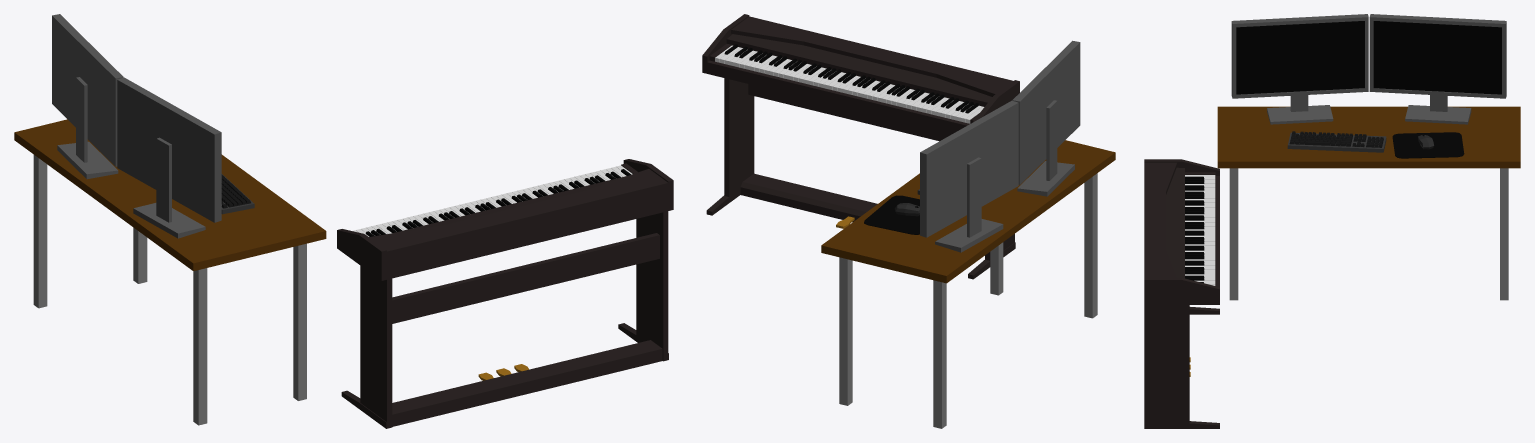
Rendered from desk-scene.glb.
The picture shows the model from 3 angles, left to right: view 1: azimuth 30°, elevation 25°; view 2: azimuth 150°, elevation 25°; view 3: azimuth 270°, elevation 25°; orthographic projection. The views are drawn at different scales.
Parts seen in each view (by area): view 1: Piano, Tabletop, MonitorScreen, TableLegs, MonitorScreen.001, MonitorStand, MonitorBase.001, MonitorBase, MonitorStand.001; view 2: Piano, Tabletop, MonitorScreen.001, TableLegs, MonitorScreen, Mousepad, MonitorStand.001, MonitorBase, MonitorBase.001, MonitorStand; view 3: Piano, Tabletop, MonitorScreen, MonitorScreen.001, TableLegs, Mousepad, MonitorBase.001, MonitorBase, Keyboard.
Part boxes in pixels (bbox=[...]): Piano: bbox=[337, 159, 673, 428]; Tabletop: bbox=[14, 119, 326, 271]; MonitorScreen: bbox=[117, 77, 221, 222]; TableLegs: bbox=[33, 155, 306, 425]; MonitorScreen.001: bbox=[52, 14, 123, 166]; MonitorStand: bbox=[156, 137, 171, 222]; MonitorBase.001: bbox=[57, 141, 118, 179]; MonitorBase: bbox=[133, 203, 205, 238]; MonitorStand.001: bbox=[76, 77, 87, 162]; Piano: bbox=[702, 14, 1019, 279]; Tabletop: bbox=[821, 140, 1115, 283]; MonitorScreen.001: bbox=[920, 100, 1018, 237]; TableLegs: bbox=[839, 173, 1097, 428]; MonitorScreen: bbox=[1012, 40, 1080, 184]; Mousepad: bbox=[864, 195, 919, 234]; MonitorStand.001: bbox=[967, 157, 981, 237]; MonitorBase: bbox=[1017, 161, 1074, 196]; MonitorBase.001: bbox=[935, 219, 1003, 252]; MonitorStand: bbox=[1046, 100, 1057, 180]; Piano: bbox=[1144, 159, 1219, 428]; Tabletop: bbox=[1217, 106, 1520, 168]; MonitorScreen: bbox=[1231, 14, 1368, 98]; MonitorScreen.001: bbox=[1369, 14, 1506, 98]; TableLegs: bbox=[1229, 168, 1508, 300]; Mousepad: bbox=[1392, 132, 1464, 158]; MonitorBase.001: bbox=[1405, 105, 1471, 124]; MonitorBase: bbox=[1267, 105, 1333, 124]; Keyboard: bbox=[1287, 132, 1386, 152].
Size of the model in its own units: 1.97 by 1.23 by 1.74.
